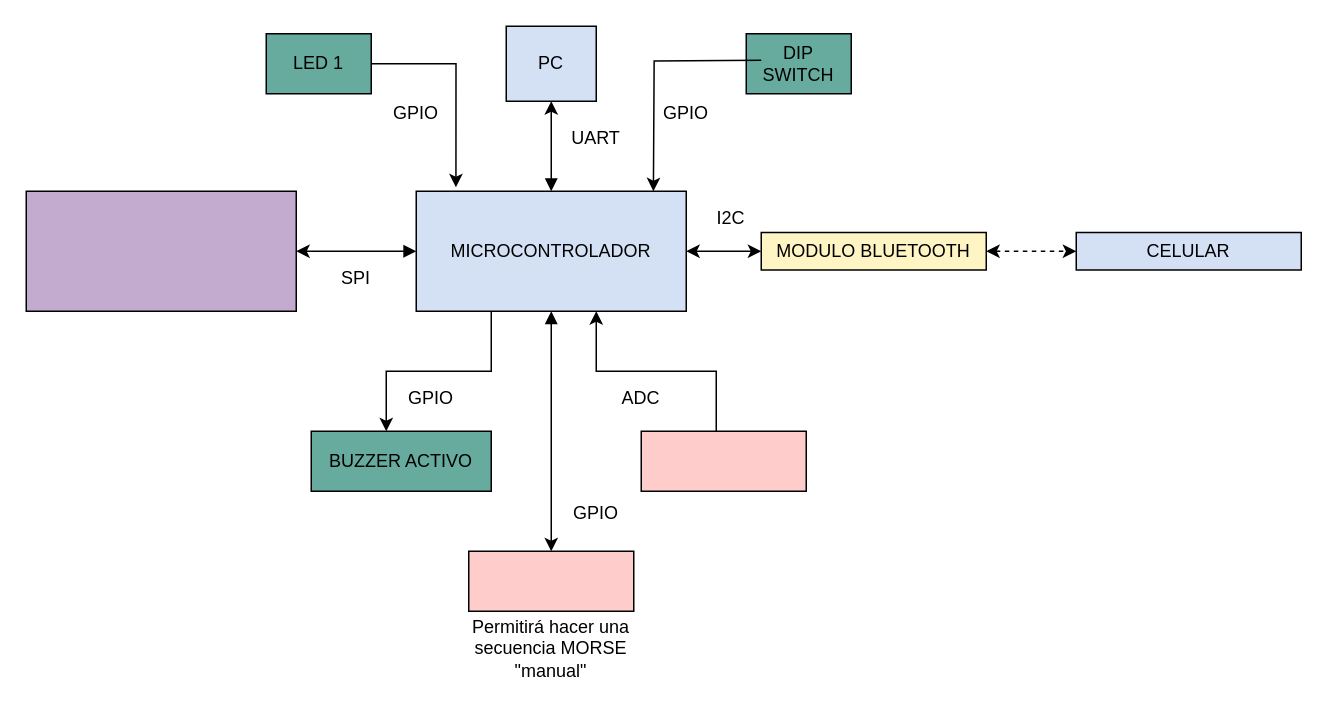
Some shapes in this 1328 by 707 pixel diagram are drawn without their labels. The centre of each missing label's shape, as x and y in pixels:
"BOTÓN 1" belongs at (550,580).
"MEMORIAS (CÓDIGO MORSE)" belongs at (160,250).
"MICROFONO" belongs at (723,460).
